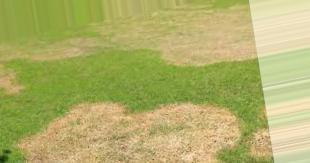patch: (39, 132, 91, 160), (211, 15, 247, 55), (166, 29, 203, 60), (75, 105, 119, 128), (115, 138, 161, 159), (173, 135, 213, 158), (114, 27, 159, 46), (12, 43, 48, 60), (155, 109, 190, 126), (202, 108, 230, 129), (56, 40, 94, 51), (126, 114, 143, 130)
